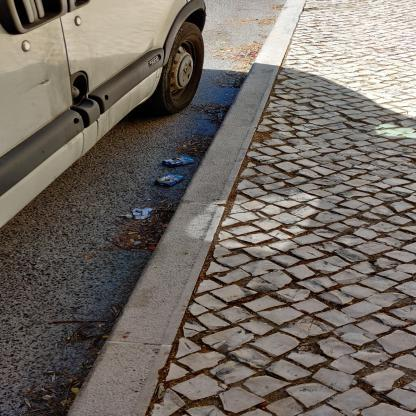karton: (163, 157, 196, 168), (156, 175, 185, 187)
